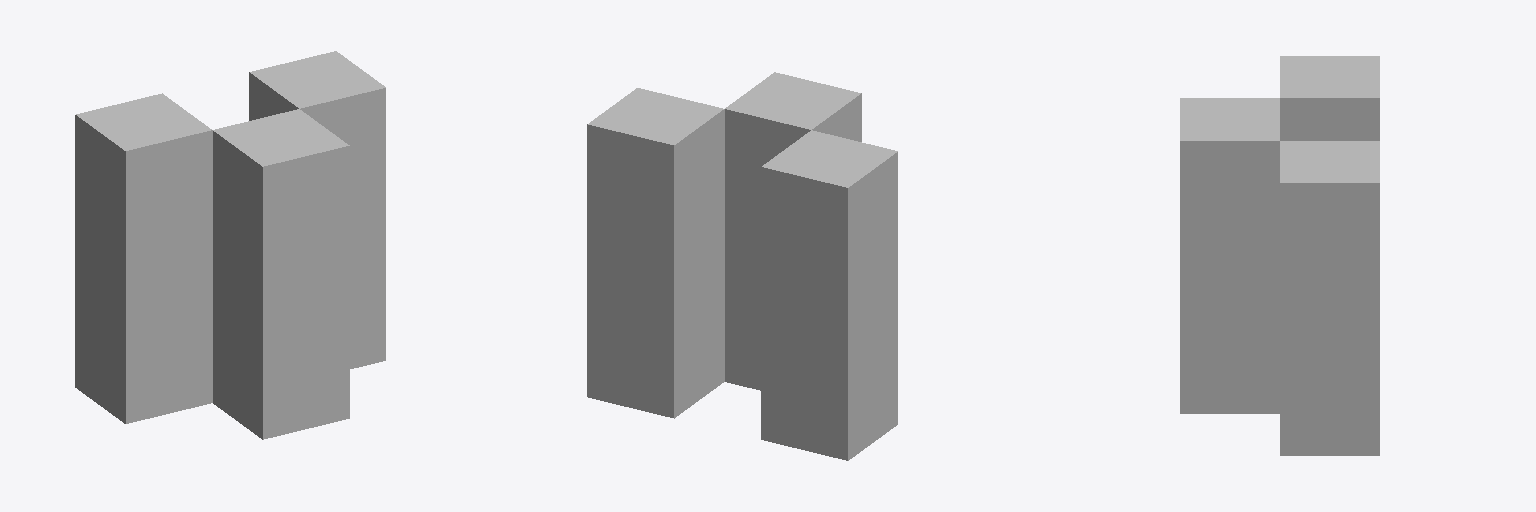
File: tent.obj
The picture shows the model from 3 angles: view 1: azimuth 30°, elevation 25°; view 2: azimuth 150°, elevation 25°; view 3: azimuth 270°, elevation 25°; orthographic projection.
Bounding box in the file's own units: 3 × 3 × 2.